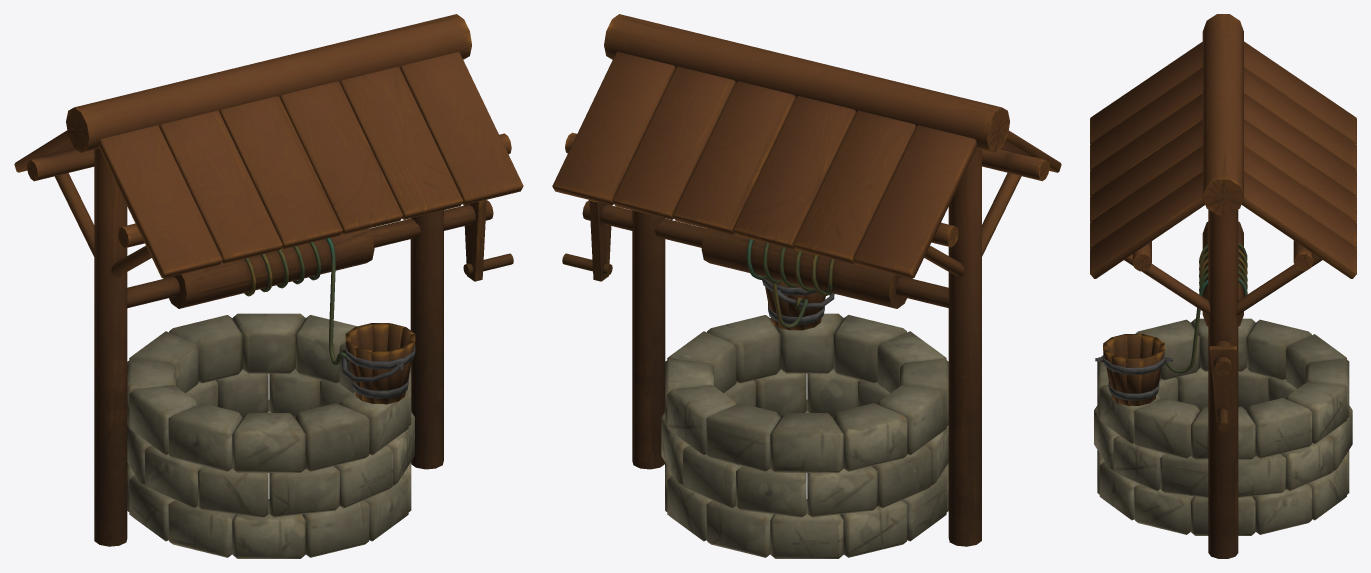
The model's file is water_well_1.glb.
3 views of the same model, side by side, from view 1: azimuth 30°, elevation 25°; view 2: azimuth 150°, elevation 25°; view 3: azimuth 270°, elevation 25° (orthographic). The views are drawn at different scales.
Parts seen in each view (by area): view 1: wood.001_low_4, wood.002_low_5, roof_low.001_39, roof.005_low.001_38, roof.001_low.001_34, roof.003_low.001_36, roof.002_low.001_35, roof.004_low.001_37, wood_low_0, wood.010_low_1, pail_low_9, stone_low.002_52 (+30 smaller); view 2: wood.001_low_4, wood.002_low_5, roof.001_low_2, roof.002_low_29, roof.005_low_32, roof_low_33, roof.003_low_30, roof.004_low_31, wood_low_0, wood.010_low_1, stone.010_low.002_62, stone.009_low.002_61 (+32 smaller); view 3: wood_low_0, wood.001_low_4, roof_low_33, roof.001_low.001_34, pail_low_9, stone.007_low.002_59, roof.002_low_29, roof.001_low_2, roof.003_low_30, roof.004_low_31, roof.005_low_32, roof.005_low.001_38 (+37 smaller).
Boxes of the visible parts, <box> form: wood.001_low_4: <box>66,14,471,152</box>; wood.002_low_5: <box>94,148,127,546</box>; roof_low.001_39: <box>98,125,222,278</box>; roof.005_low.001_38: <box>159,110,282,263</box>; roof.001_low.001_34: <box>400,52,523,205</box>; roof.003_low.001_36: <box>280,81,403,234</box>; roof.002_low.001_35: <box>340,66,463,219</box>; roof.004_low.001_37: <box>220,96,342,249</box>; wood_low_0: <box>410,210,443,469</box>; wood.010_low_1: <box>164,228,374,308</box>; pail_low_9: <box>345,323,415,404</box>; stone_low.002_52: <box>232,413,305,472</box>; wood.001_low_4: <box>604,14,1009,152</box>; wood.002_low_5: <box>948,148,981,546</box>; roof.001_low_2: <box>853,125,977,278</box>; roof.002_low_29: <box>793,110,916,263</box>; roof.005_low_32: <box>612,66,735,219</box>; roof_low_33: <box>552,51,675,205</box>; roof.003_low_30: <box>733,95,856,249</box>; roof.004_low_31: <box>672,81,795,234</box>; wood_low_0: <box>632,210,665,469</box>; wood.010_low_1: <box>701,228,906,308</box>; stone.010_low.002_62: <box>770,413,843,472</box>; stone.009_low.002_61: <box>706,403,780,471</box>; wood_low_0: <box>1208,210,1238,558</box>; wood.001_low_4: <box>1202,14,1243,215</box>; roof_low_33: <box>1241,171,1356,278</box>; roof.001_low.001_34: <box>1090,172,1205,278</box>; pail_low_9: <box>1103,334,1164,405</box>; stone.007_low.002_59: <box>1246,398,1312,458</box>; roof.002_low_29: <box>1244,67,1356,169</box>; roof.001_low_2: <box>1244,41,1356,143</box>; roof.003_low_30: <box>1244,93,1356,195</box>; roof.004_low_31: <box>1244,119,1356,221</box>; roof.005_low_32: <box>1244,145,1356,247</box>; roof.005_low.001_38: <box>1090,68,1202,169</box>.
Bounding box in the file's own units: 6.3 × 6.08 × 3.79.
1 material, 1 textured.
